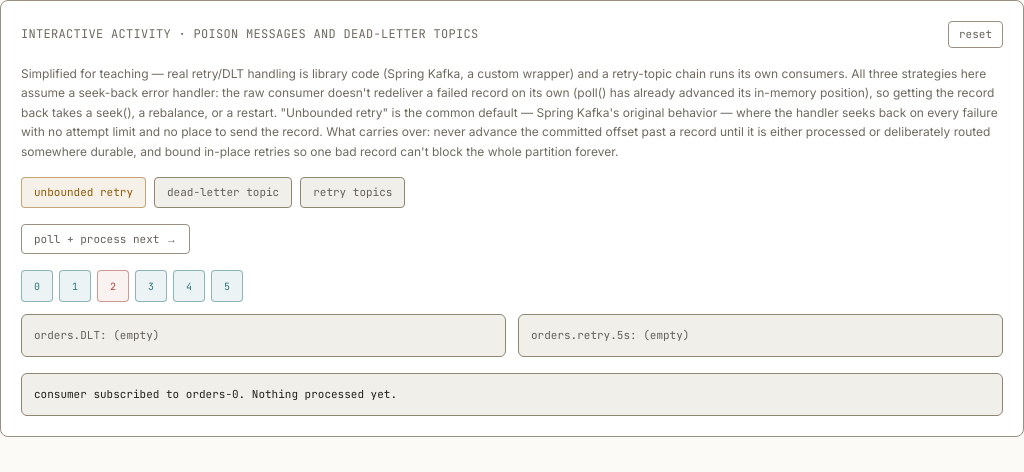
PoisonMessageDemo › resets the run when the strategy changes
Click the button "dead-letter topic": {"x": 223, "y": 192} [154,177,292,208]
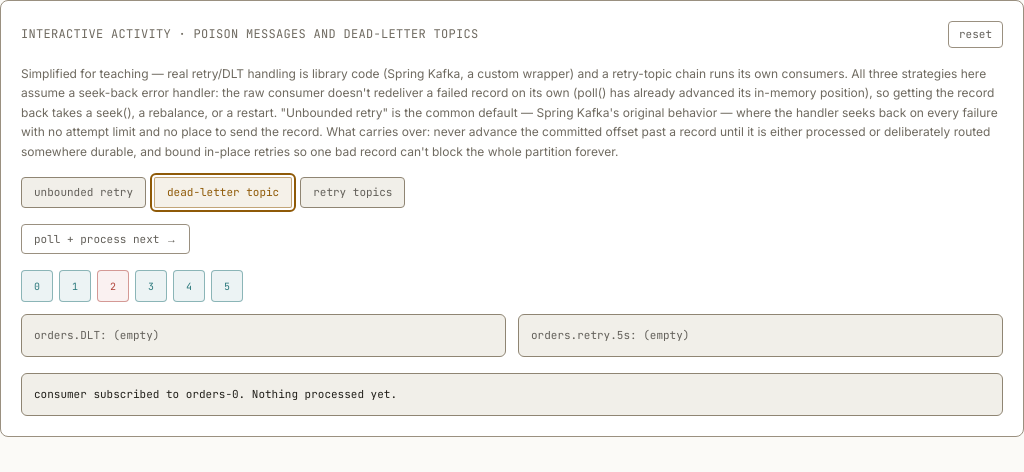
Click the button "poll + process next →": {"x": 106, "y": 239} [21,224,190,254]
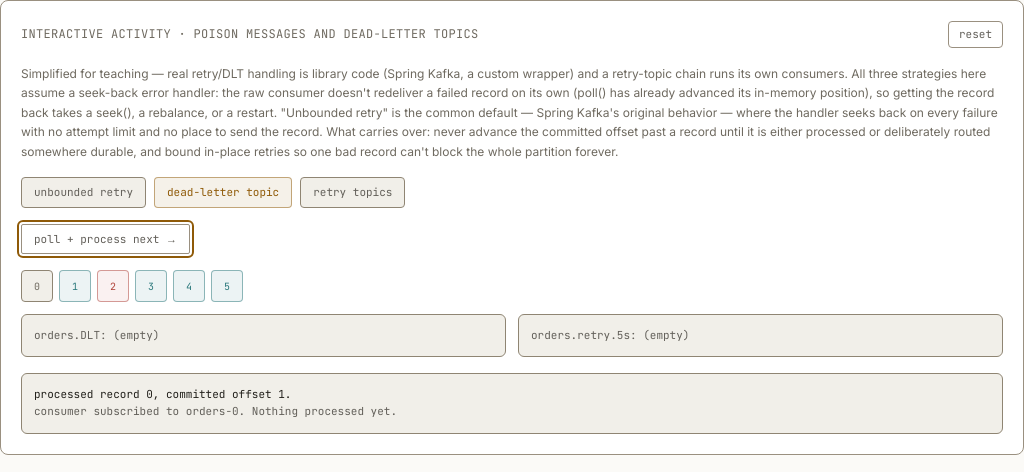
Click the button "unbounded retry": {"x": 84, "y": 192} [21,177,146,208]
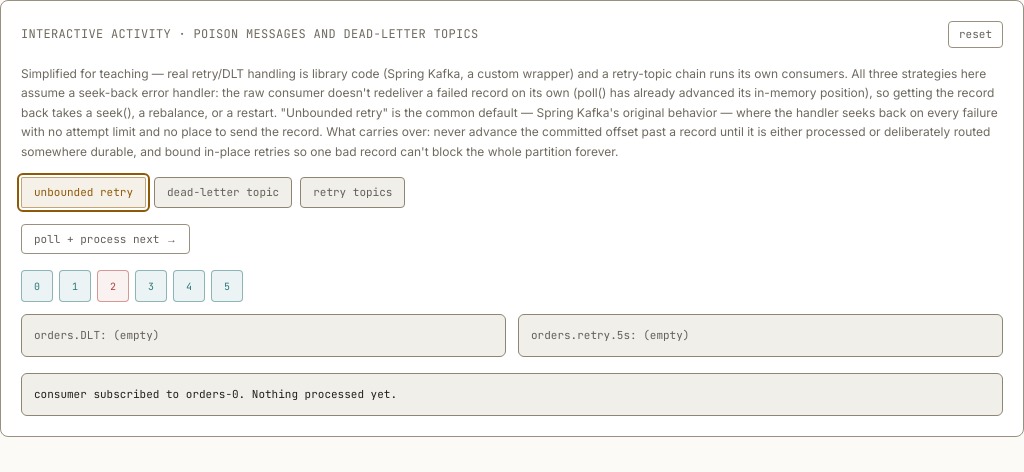
Expected: the element with test id "main-partition" is shown, [21,270,243,302]
Now the text "consumer subscribed to orders-0. Nothing processed yet." is shown, box [34,386,397,400]
